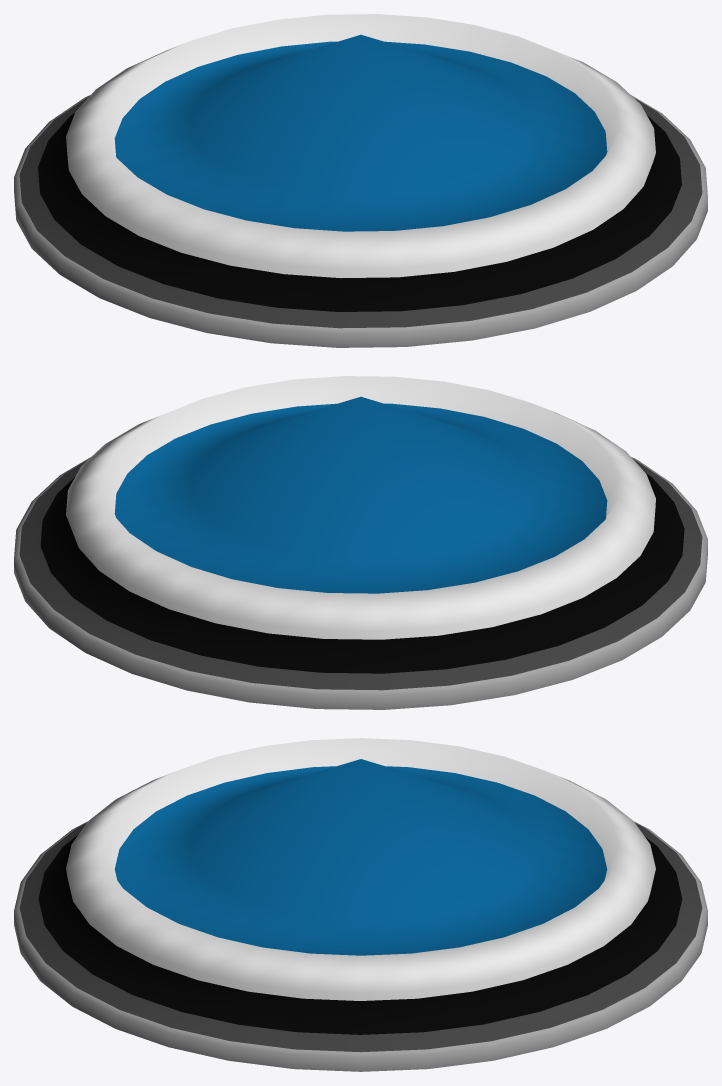
File: CymbalAccentNote.fbx
3 renders of one model, top to bottom at view 1: azimuth 30°, elevation 25°; view 2: azimuth 150°, elevation 25°; view 3: azimuth 270°, elevation 25°, orthographic.
Visible parts, largest first — view 1: Cone.012; view 2: Cone.012; view 3: Cone.012.
Boxes of the visible parts, bbox=[...] form: Cone.012: bbox=[14, 14, 707, 347]; Cone.012: bbox=[14, 376, 707, 709]; Cone.012: bbox=[14, 738, 707, 1071].
Bounding box in the file's own units: 64.42 × 17.03 × 64.42.
